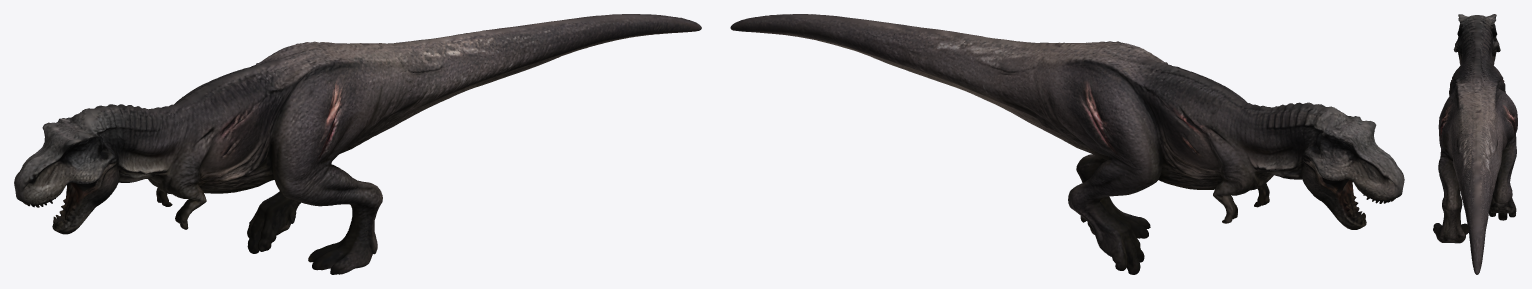
The model's file is skin.glb.
3 views of the same model, side by side, from view 1: azimuth 30°, elevation 25°; view 2: azimuth 150°, elevation 25°; view 3: azimuth 270°, elevation 25° (orthographic). The views are drawn at different scales.
Visible parts, largest first — view 1: node_0; view 2: node_0; view 3: node_0.
Part boxes in pixels (left/top/right/bottom): node_0: left=14, top=14, right=701, bottom=274; node_0: left=730, top=14, right=1404, bottom=274; node_0: left=1433, top=14, right=1517, bottom=274.
Size of the model in its own units: 1.19 by 0.3416 by 0.1795.
Materials: 1 (1 with a texture image).
